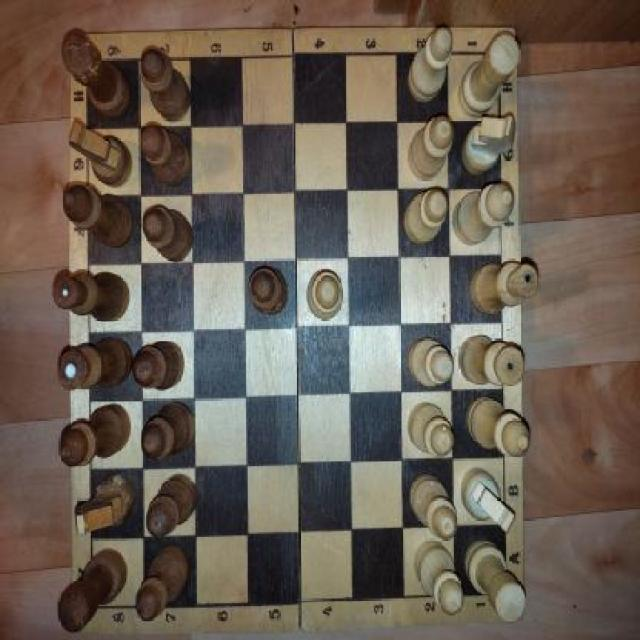chess-table-corners: (477, 556, 526, 624), (66, 30, 112, 96), (70, 576, 118, 636), (478, 26, 518, 86)
